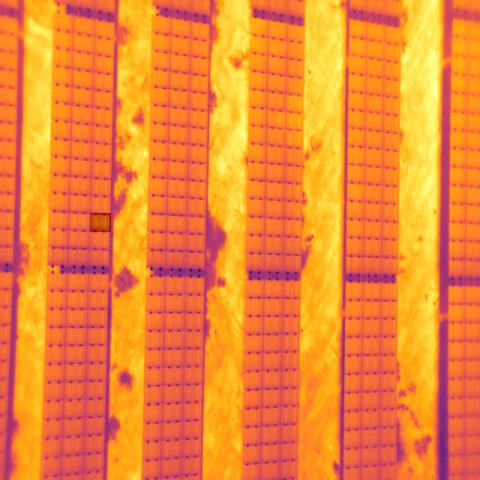fault: (91, 213, 111, 232)
